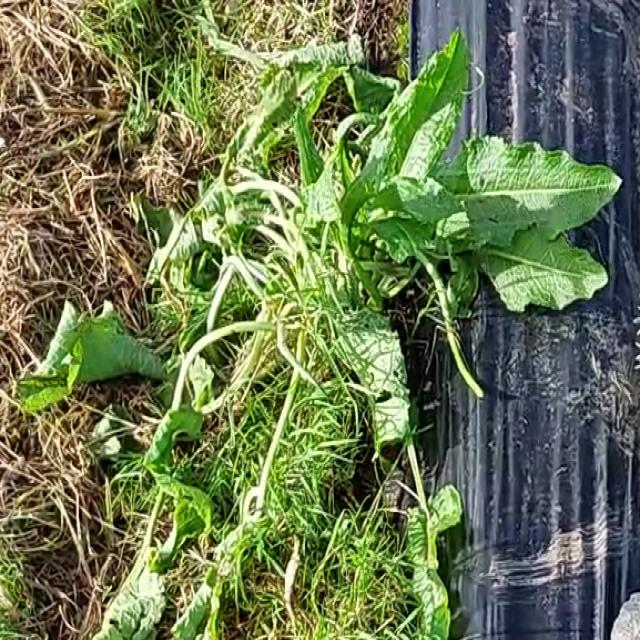organic waste: (209, 12, 640, 388), (0, 253, 262, 503), (76, 406, 270, 637)
